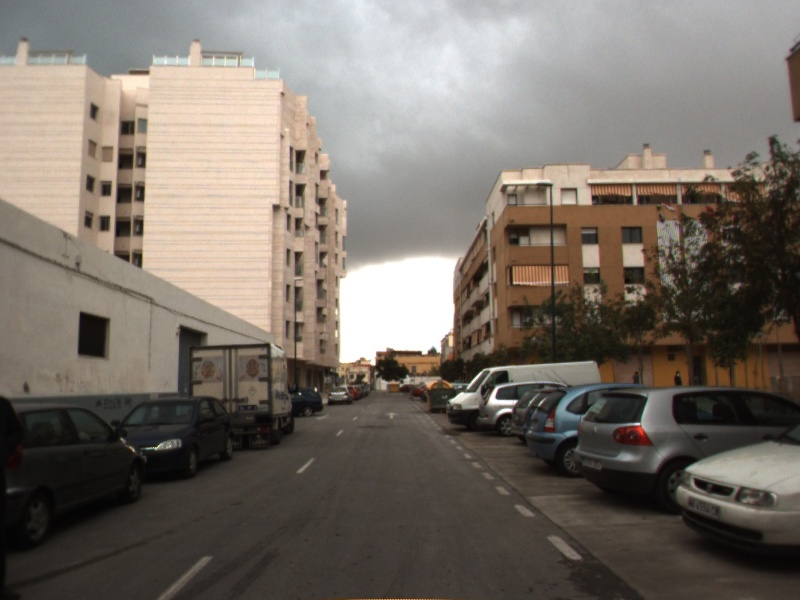STRAIGHT: (382, 409, 402, 421)
